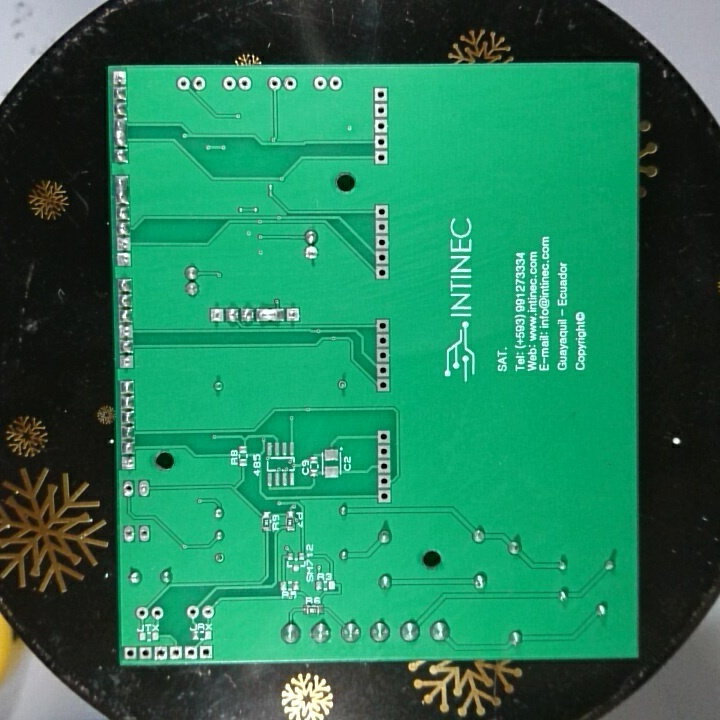F: (302, 244, 322, 268), (120, 478, 136, 501), (286, 307, 302, 329), (135, 478, 150, 500), (115, 251, 133, 269), (167, 644, 184, 663), (207, 306, 224, 325), (136, 523, 150, 545), (198, 645, 216, 662), (372, 133, 389, 151), (373, 101, 390, 119), (120, 455, 139, 471), (153, 645, 169, 664), (184, 643, 198, 664), (120, 352, 137, 369), (174, 76, 191, 93), (373, 202, 391, 218), (137, 646, 153, 663), (376, 428, 393, 444), (373, 119, 389, 136), (117, 236, 133, 252), (311, 75, 327, 91), (113, 69, 127, 87), (267, 76, 281, 94), (123, 525, 136, 544), (375, 148, 391, 163), (376, 316, 390, 333), (374, 232, 391, 246), (373, 86, 387, 103), (221, 75, 235, 92), (281, 76, 294, 94), (191, 75, 204, 93), (336, 379, 347, 400), (119, 324, 135, 338), (211, 551, 227, 565), (376, 378, 390, 394), (376, 363, 392, 377), (374, 218, 390, 232), (150, 606, 163, 623), (376, 460, 394, 472), (185, 604, 200, 618), (377, 444, 392, 458), (376, 332, 390, 347), (377, 473, 393, 486), (329, 75, 341, 92), (376, 249, 390, 263), (199, 605, 214, 618), (124, 646, 137, 661), (238, 74, 250, 90), (136, 606, 149, 620), (378, 489, 393, 501), (376, 266, 391, 278), (376, 349, 391, 360)
P: (113, 172, 133, 203), (256, 307, 284, 325), (113, 120, 130, 146)
